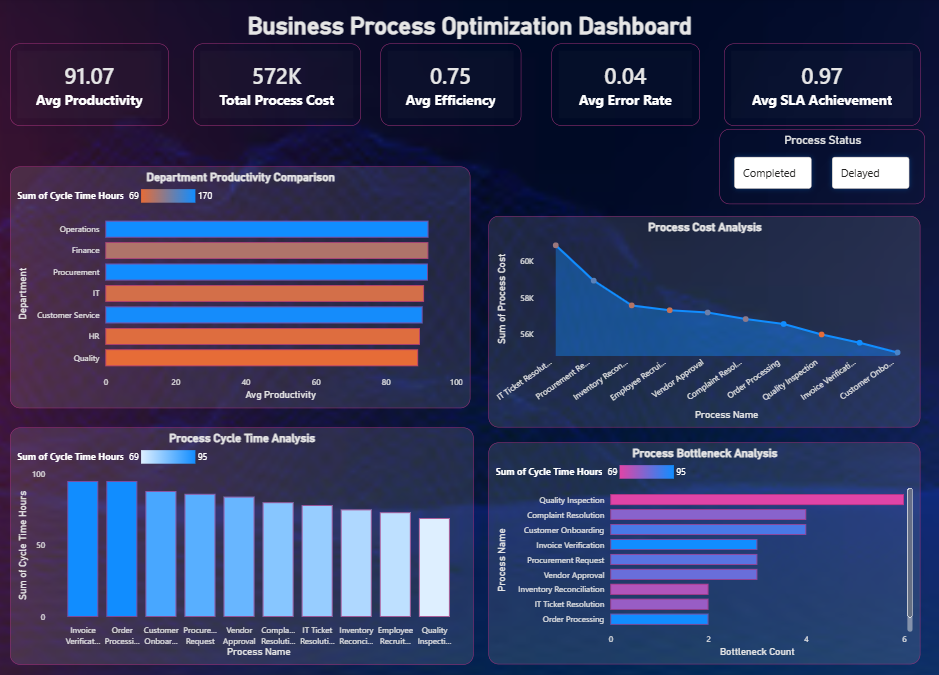

This screenshot's page, from the dashboard's own definition file:
{"tool":"powerbi","page":{"name":"Page 1","canvas":[1400,1000],"ordinal":0},"visuals":[{"type":"textbox","title":"Business Process Optimization Dashboard","box":[64.1,22.1,1270.3,46.4],"z":0},{"type":"cardVisual","fields":{"Data":["ProcessData.Avg Productivity"]},"box":[22.1,68.5,234.2,121.5],"z":1000},{"type":"cardVisual","fields":{"Data":["ProcessData.Avg Efficiency"]},"box":[567.8,68.5,207.7,121.5],"z":2000},{"type":"cardVisual","fields":{"Data":["ProcessData.Avg SLA Achievement"]},"box":[1073.7,68.5,289.4,121.5],"z":3000},{"type":"cardVisual","fields":{"Data":["ProcessData.Total Process Cost"]},"box":[291.6,68.5,247.4,121.5],"z":4000},{"type":"cardVisual","fields":{"Data":["ProcessData.Avg Error Rate"]},"box":[819.6,68.5,218.7,121.5],"z":5000},{"type":"clusteredBarChart","title":"Department Productivity Comparison","fields":{"Category":["ProcessData.Department"],"Y":["ProcessData.Avg Productivity"]},"box":[22.1,249.6,678.2,355.7],"z":6000},{"type":"clusteredColumnChart","title":"Process Cycle Time Analysis","fields":{"Category":["ProcessData.Process Name"],"Y":["Sum(ProcessData.Cycle Time Hours)"]},"box":[22.1,634,682.6,349.1],"z":7000},{"type":"areaChart","title":"Process Cost Analysis","fields":{"Category":["ProcessData.Process Name"],"Y":["Sum(ProcessData.Process Cost)"]},"box":[726.8,322.5,636.2,311.5],"z":8000},{"type":"clusteredBarChart","title":"Process Bottleneck Analysis","fields":{"Category":["ProcessData.Process Name"],"Y":["ProcessData.Bottleneck Count"]},"box":[726.8,656.1,636.2,327],"z":10000},{"type":"advancedSlicerVisual","fields":{"Values":["ProcessData.Process Status"]},"box":[1067,194.4,302.7,110.5],"z":15000}]}

Visuals, with their boxes in screenshot pixels (x1, y1, x2, y2), scaled from the page's 1400x1000 canvas onto the 939x675 screenshot:
"Business Process Optimization Dashboard" textbox: x1=43, y1=15, x2=895, y2=46
cardVisual - ProcessData.Avg Productivity: x1=15, y1=46, x2=172, y2=128
cardVisual - ProcessData.Avg Efficiency: x1=381, y1=46, x2=520, y2=128
cardVisual - ProcessData.Avg SLA Achievement: x1=720, y1=46, x2=914, y2=128
cardVisual - ProcessData.Total Process Cost: x1=196, y1=46, x2=362, y2=128
cardVisual - ProcessData.Avg Error Rate: x1=550, y1=46, x2=696, y2=128
"Department Productivity Comparison" clusteredBarChart: x1=15, y1=168, x2=470, y2=409
"Process Cycle Time Analysis" clusteredColumnChart: x1=15, y1=428, x2=473, y2=664
"Process Cost Analysis" areaChart: x1=487, y1=218, x2=914, y2=428
"Process Bottleneck Analysis" clusteredBarChart: x1=487, y1=443, x2=914, y2=664
advancedSlicerVisual - ProcessData.Process Status: x1=716, y1=131, x2=919, y2=206
